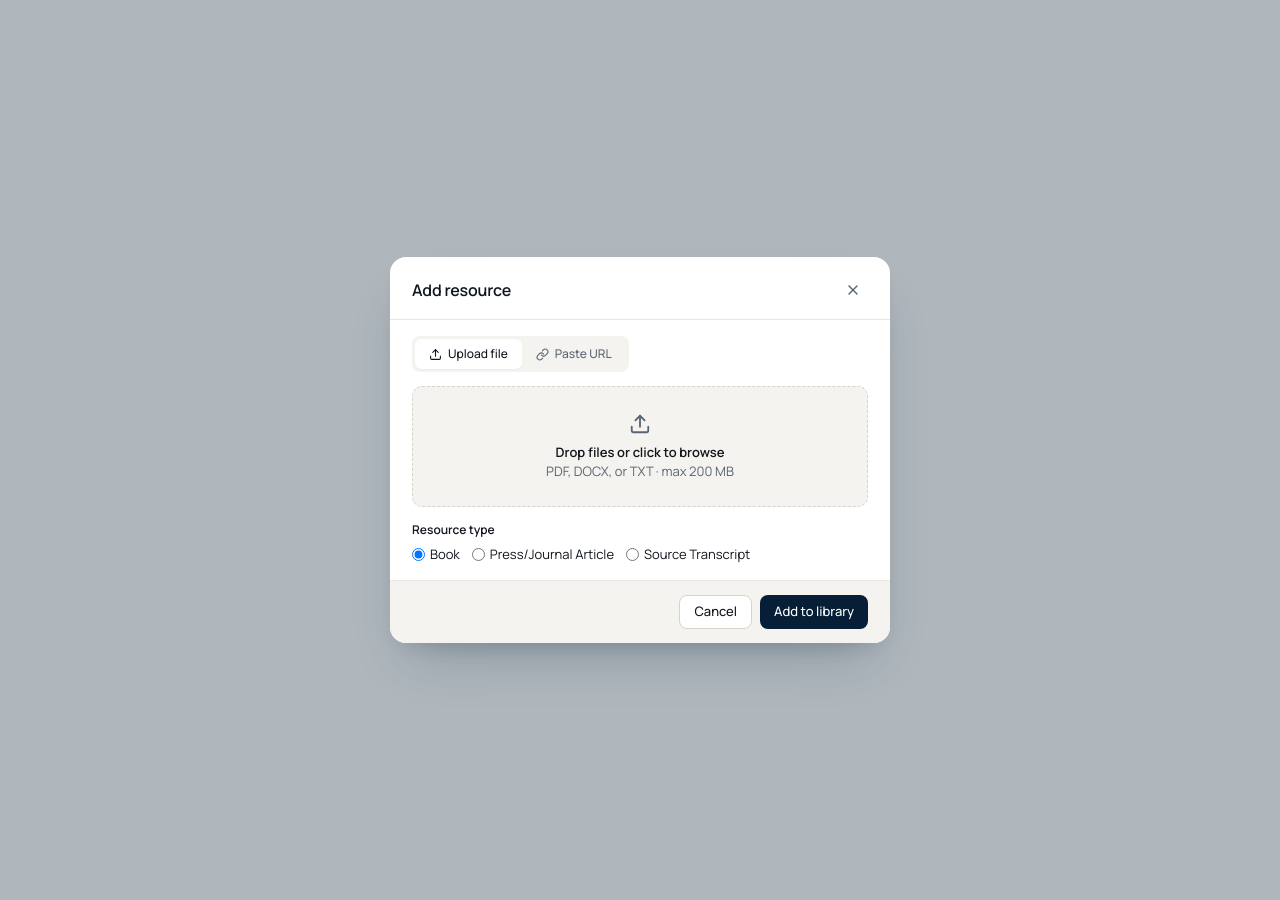
switching to URL path shows URL input and hides resource type control
Step 1. Click the button "Paste URL" → (574, 354), box left=522, top=339, right=626, bottom=369
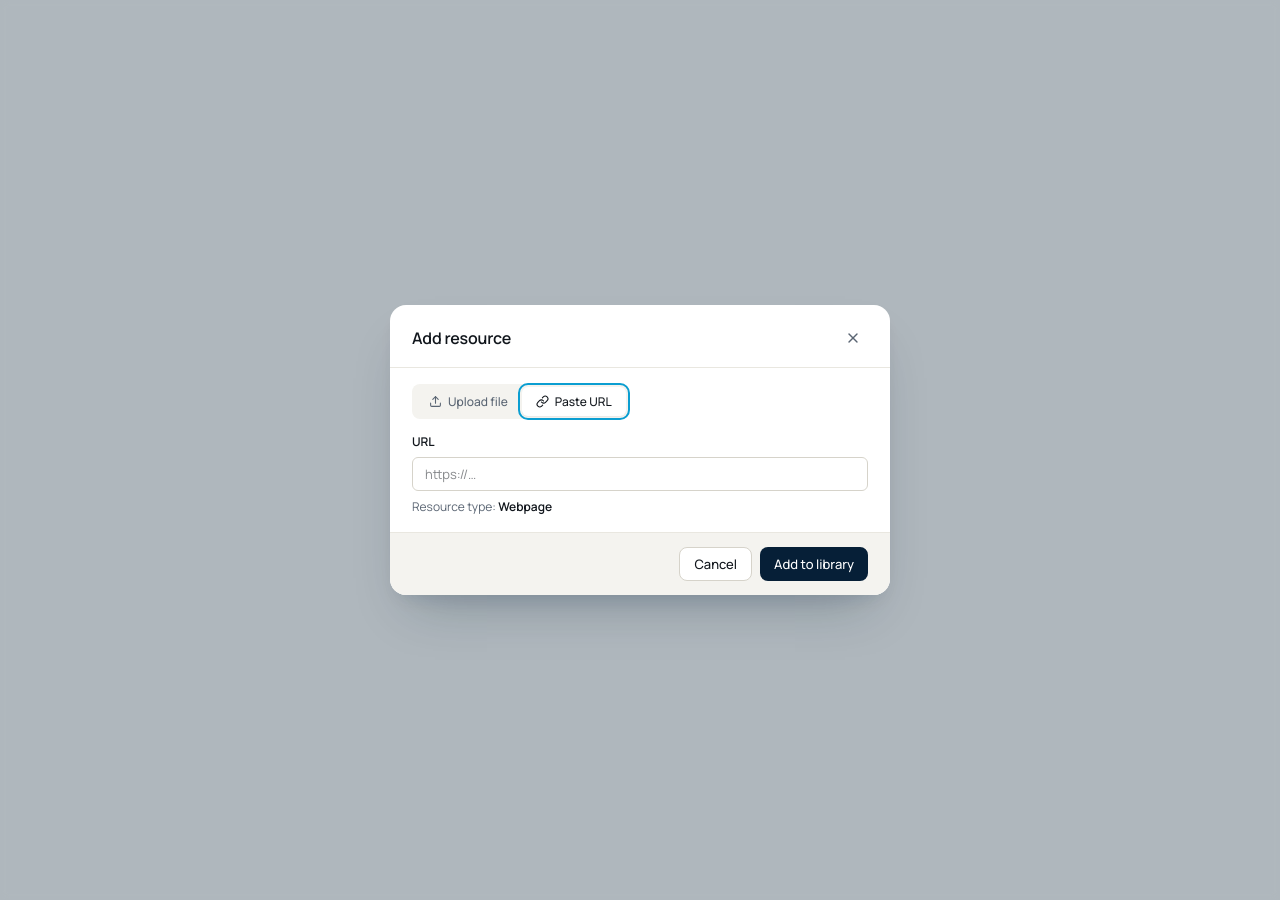
Expected: the field labelled "URL" is shown, left=412, top=457, right=868, bottom=491
Expected: the label "Book" is gone
Expected: the text "Webpage" is shown, left=498, top=498, right=552, bottom=515
